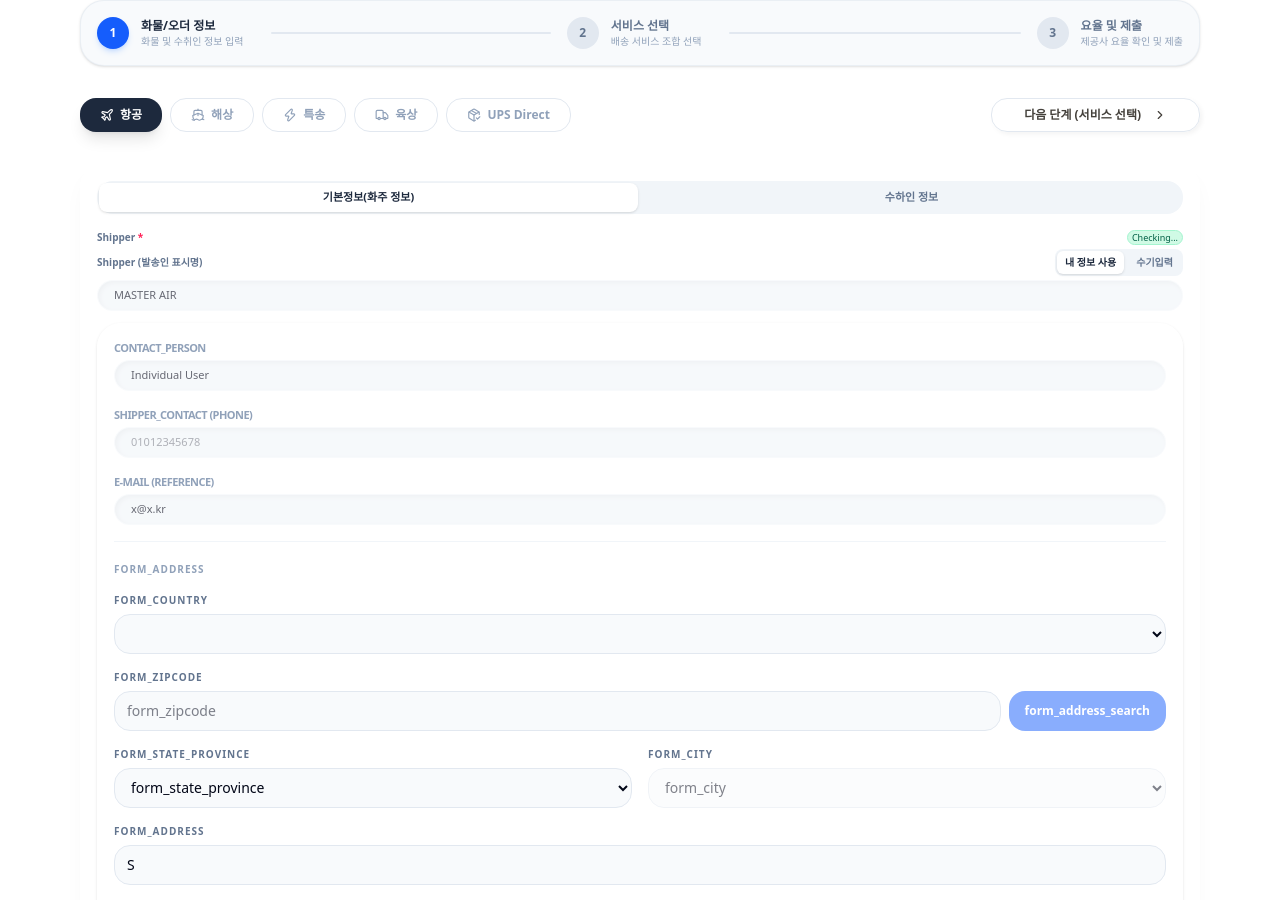
it: TASK-B-295: 화주명 토글 (Issue #1100) › TC-295-06: "수기입력" → "내 정보 사용" 재전환 시 조직명으로 복원
This screenshot has width=1280, height=900.
Expected: the field named "shipper_name" below "(발송인 표시명)" is shown, [97,280,1183,310]
Click the button "수기입력" at (1155, 262), box [1128,251,1181,274]
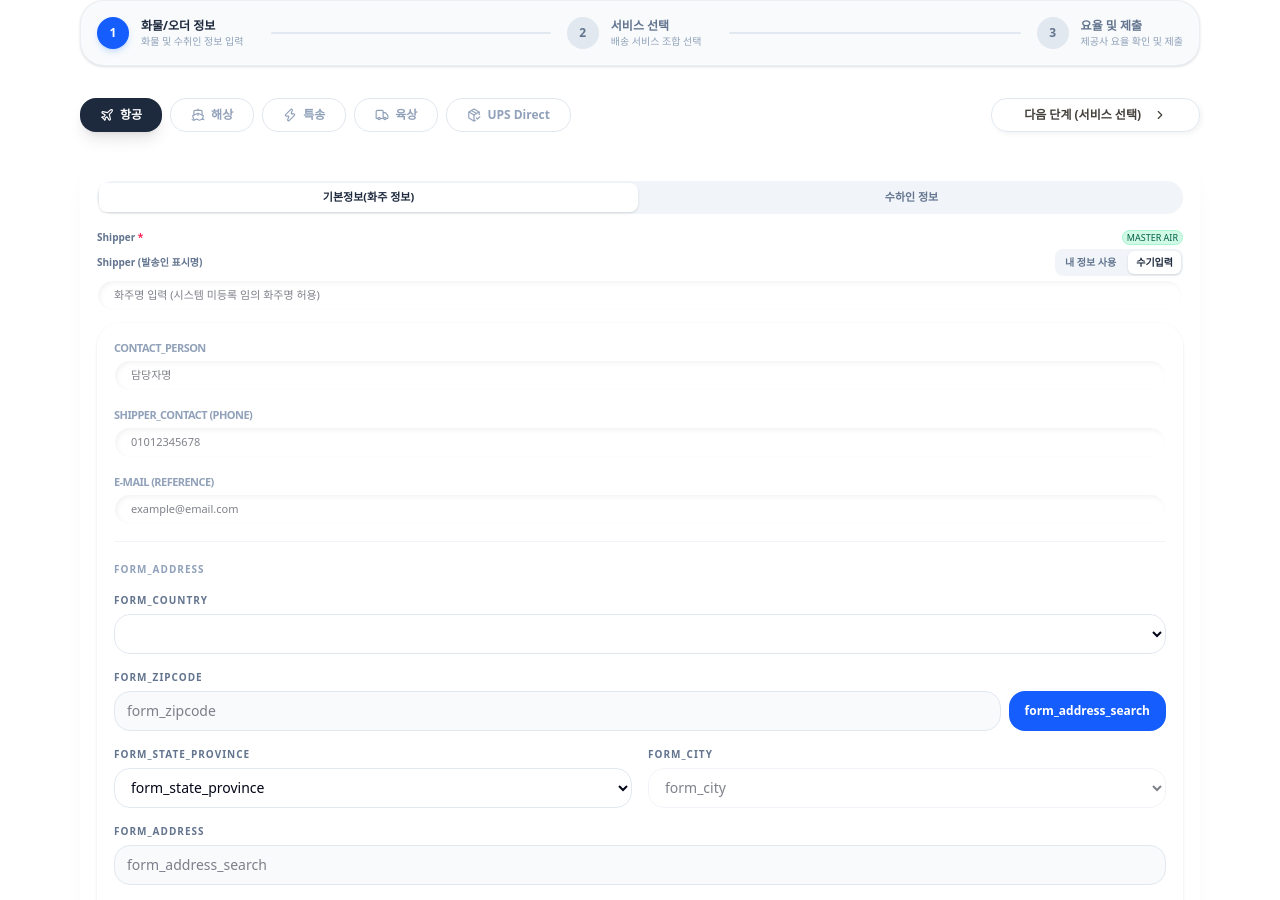
Type "Test Shipper ABC" into the field named "shipper_name" at (640, 295), box [97,280,1183,310]
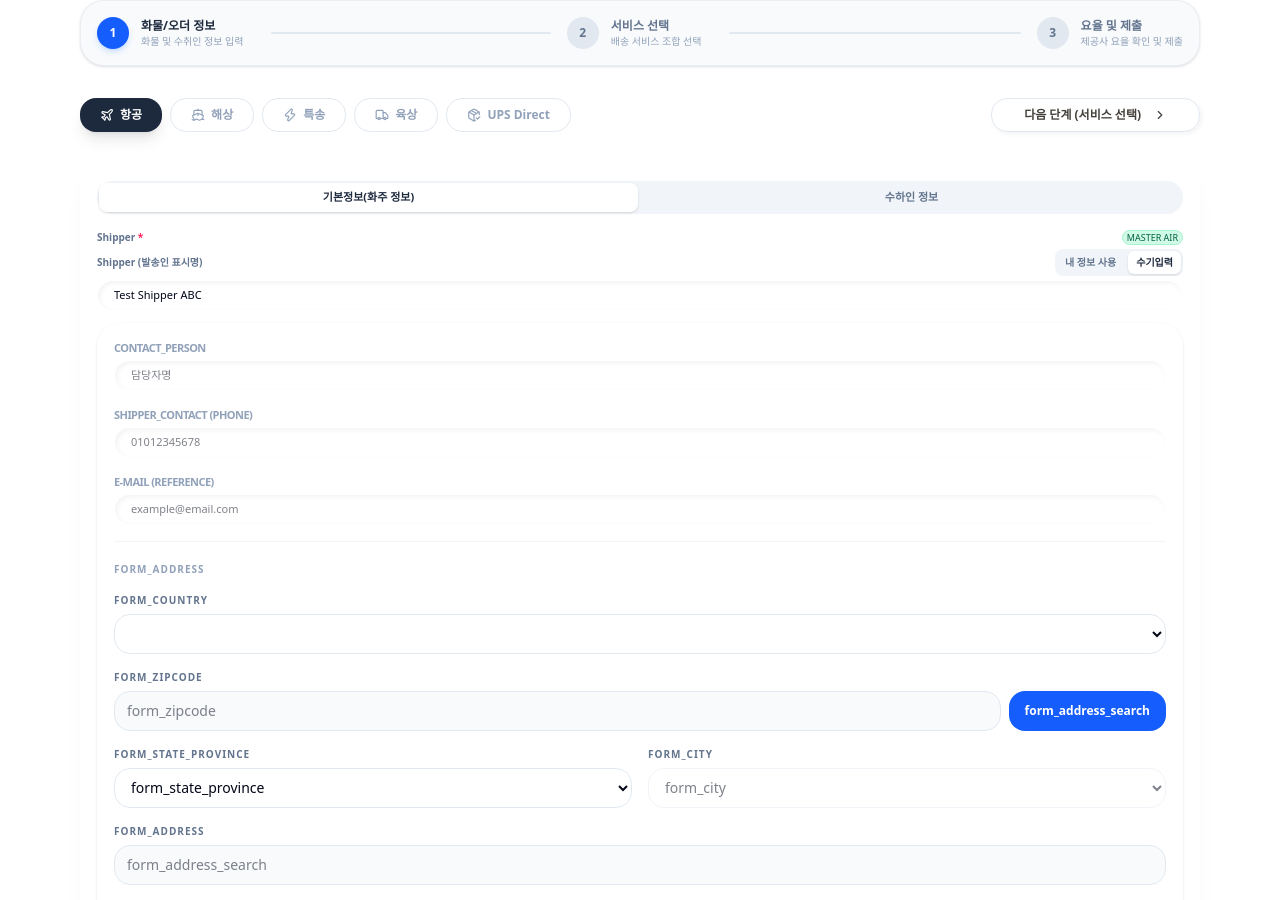
Click the button "내 정보 사용" at (1091, 262), box [1057,251,1124,274]
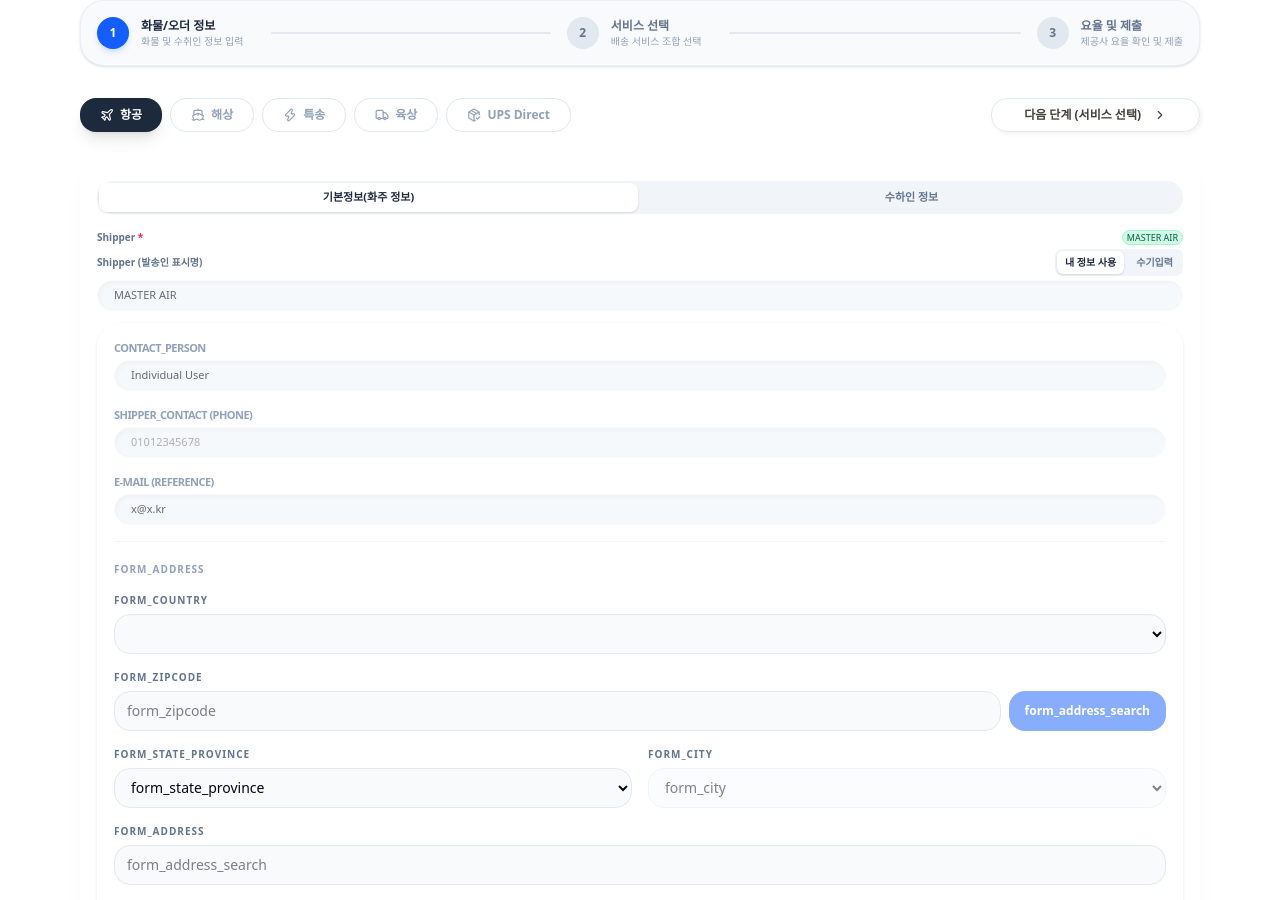
Expected: the field named "shipper_name" below "(발송인 표시명)" is disabled, [97,280,1183,310]
Expected: the field named "shipper_name" below "(발송인 표시명)" holds "MASTER AIR", [97,280,1183,310]
